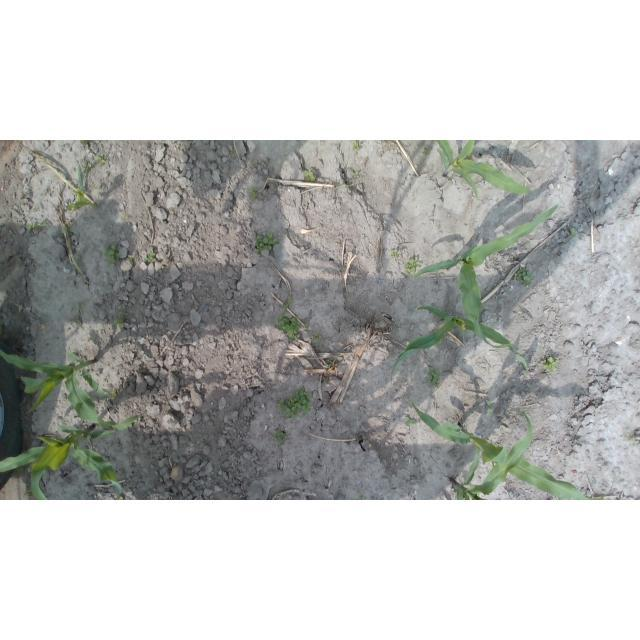Maize: (413, 204, 558, 348), (411, 397, 609, 500), (1, 416, 140, 501), (390, 306, 528, 380), (0, 347, 116, 429), (449, 412, 533, 501), (434, 140, 536, 200), (62, 160, 94, 212)
Weeds: (276, 386, 313, 420), (276, 314, 302, 343), (67, 187, 91, 211), (255, 231, 279, 254), (103, 243, 120, 265), (514, 267, 533, 286), (405, 257, 422, 276), (427, 365, 441, 388), (272, 428, 288, 446), (113, 311, 128, 329), (542, 356, 558, 372), (27, 220, 48, 232), (404, 415, 417, 428), (143, 250, 156, 263), (304, 169, 316, 182), (248, 186, 259, 200), (283, 295, 293, 309), (391, 249, 402, 261), (95, 152, 106, 164), (627, 433, 637, 445), (313, 332, 321, 345), (352, 141, 361, 152), (486, 400, 493, 414), (356, 492, 368, 500), (326, 357, 334, 368), (64, 225, 73, 234), (84, 163, 92, 173), (423, 147, 431, 155), (76, 300, 84, 308), (110, 389, 116, 399), (230, 148, 237, 156), (127, 255, 135, 262), (569, 228, 575, 237), (80, 141, 89, 146), (353, 172, 359, 179), (306, 325, 311, 332), (20, 195, 25, 202), (60, 144, 64, 148), (92, 141, 97, 144)
